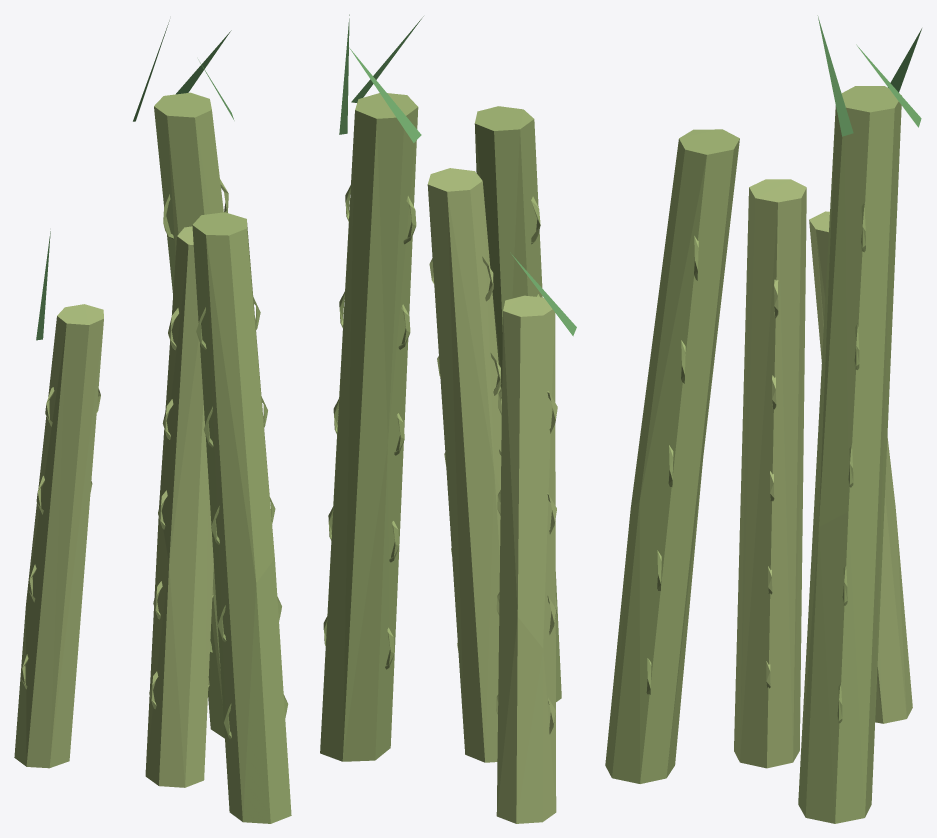
The model's file is 50-Vegetacion_canas_bambu.glb.
3 renders of one model, left to right at view 1: azimuth 30°, elevation 25°; view 2: azimuth 150°, elevation 25°; view 3: azimuth 270°, elevation 25°, orthographic. The views are drawn at different scales.
Parts seen in each view (by area): view 1: SM_Cana_M_Bambu_A, SM_Cana_M_Bambu_B, SM_Cana_M_Hoja_Bambu; view 2: SM_Cana_M_Bambu_A, SM_Cana_M_Bambu_B, SM_Cana_M_Hoja_Bambu; view 3: SM_Cana_M_Bambu_B, SM_Cana_M_Bambu_A, SM_Cana_M_Hoja_Bambu.
Boxes of the visible parts, x1,y1,x2,y2 form: SM_Cana_M_Bambu_A: (14, 226, 213, 787); SM_Cana_M_Bambu_B: (154, 92, 291, 823); SM_Cana_M_Hoja_Bambu: (36, 20, 234, 340); SM_Cana_M_Bambu_A: (427, 168, 557, 823); SM_Cana_M_Bambu_B: (320, 93, 561, 761); SM_Cana_M_Hoja_Bambu: (339, 14, 576, 336); SM_Cana_M_Bambu_B: (605, 86, 901, 823); SM_Cana_M_Bambu_A: (734, 179, 912, 768); SM_Cana_M_Hoja_Bambu: (817, 15, 921, 136).
Size of the model in its own units: 1.42 by 3.97 by 1.5.
